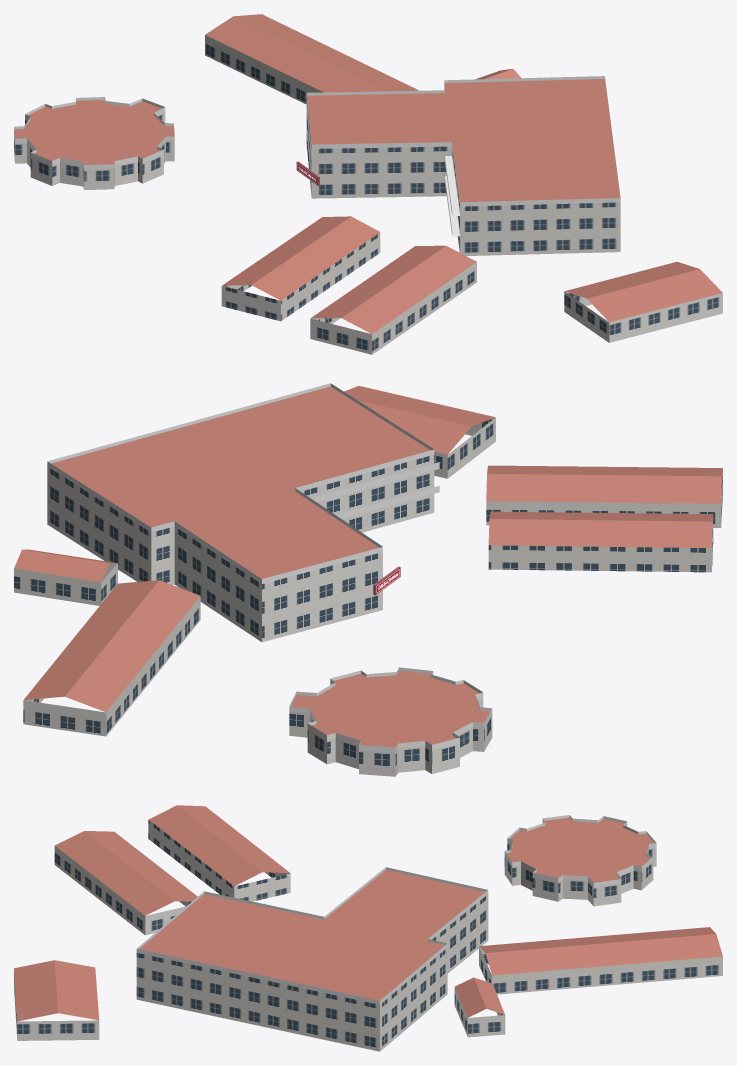
Rendered from m_manchebobeachresortspa.glb.
The picture shows the model from 3 angles, top to bottom: view 1: azimuth 30°, elevation 25°; view 2: azimuth 150°, elevation 25°; view 3: azimuth 270°, elevation 25°; orthographic projection. The views are drawn at different scales.
Parts seen in each view (by area): view 1: m_manchebobeachresortspa_lod0; view 2: m_manchebobeachresortspa_lod0; view 3: m_manchebobeachresortspa_lod0.
Boxes of the visible parts, x1=… form: m_manchebobeachresortspa_lod0: x1=14, y1=14, x2=722, y2=354; m_manchebobeachresortspa_lod0: x1=14, y1=383, x2=722, y2=776; m_manchebobeachresortspa_lod0: x1=14, y1=805, x2=722, y2=1051.
Size of what is drawn, in the model's own units: 79 by 12.5 by 108.
5 materials, 2 textured.
